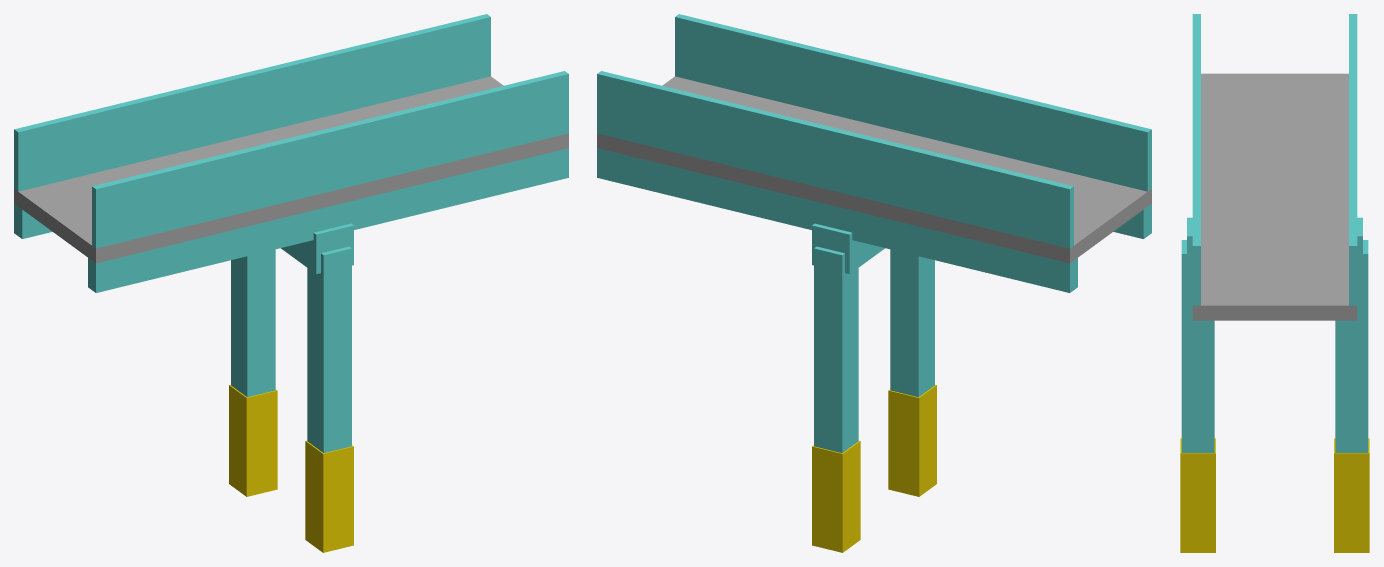
The model's file is bridge_side.gltf.
3 renders of one model, left to right at view 1: azimuth 30°, elevation 25°; view 2: azimuth 150°, elevation 25°; view 3: azimuth 270°, elevation 25°, orthographic.
Size of the model in its own units: 10 by 8.35 by 3.45.
